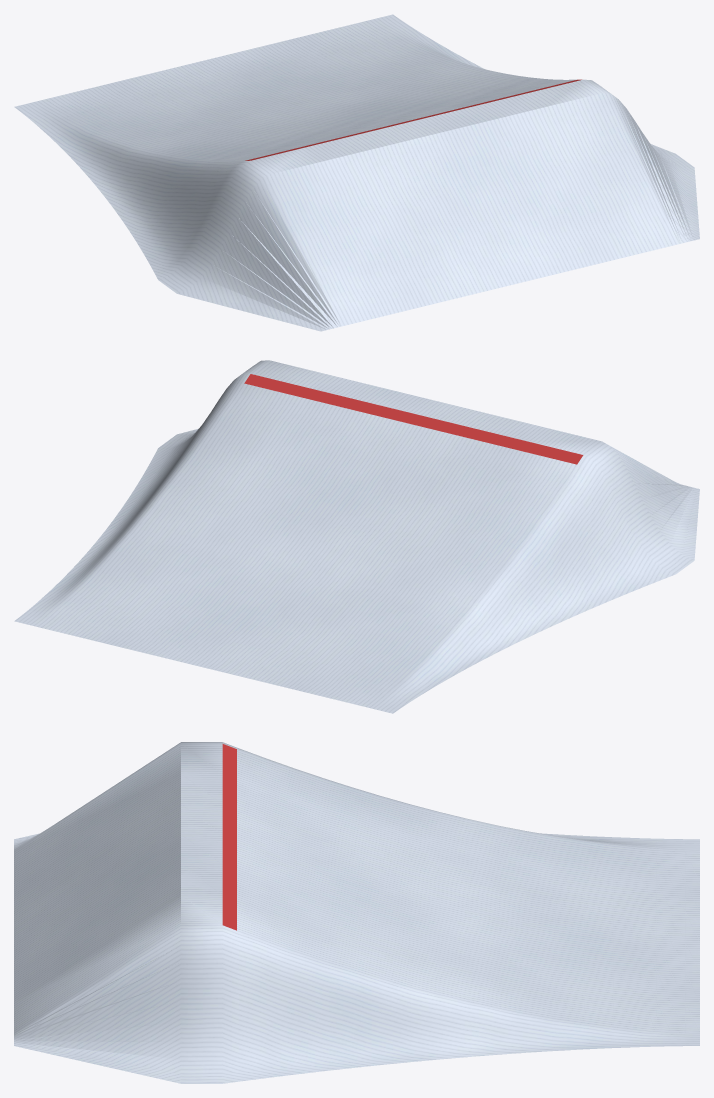
Rendered from SM_Kicker.glb.
3 views of the same model, one above another, from view 1: azimuth 30°, elevation 25°; view 2: azimuth 150°, elevation 25°; view 3: azimuth 270°, elevation 25° (orthographic). The views are drawn at different scales.
Visible parts, largest first — view 1: SM_Kicker, Lip; view 2: SM_Kicker, Lip; view 3: SM_Kicker, Lip.
Part boxes in pixels (left/top/right/bottom): SM_Kicker: left=14, top=14, right=699, bottom=331; Lip: left=245, top=79, right=581, bottom=160; SM_Kicker: left=14, top=360, right=699, bottom=713; Lip: left=244, top=374, right=583, bottom=464; SM_Kicker: left=14, top=742, right=699, bottom=1083; Lip: left=222, top=744, right=236, bottom=930.
Bounding box in the file's own units: 5.6 × 1 × 5.75.
2 materials, 1 textured.
